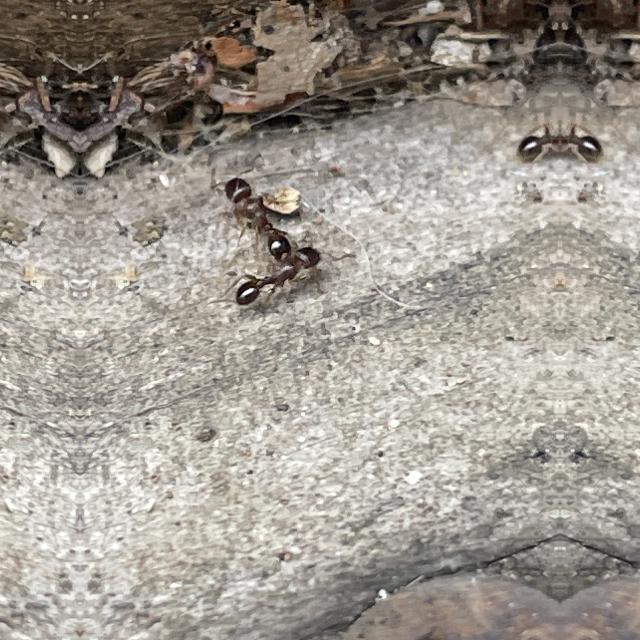Tetramorium: (224, 160, 300, 262), (232, 238, 332, 312), (509, 114, 559, 170), (561, 114, 611, 170)
